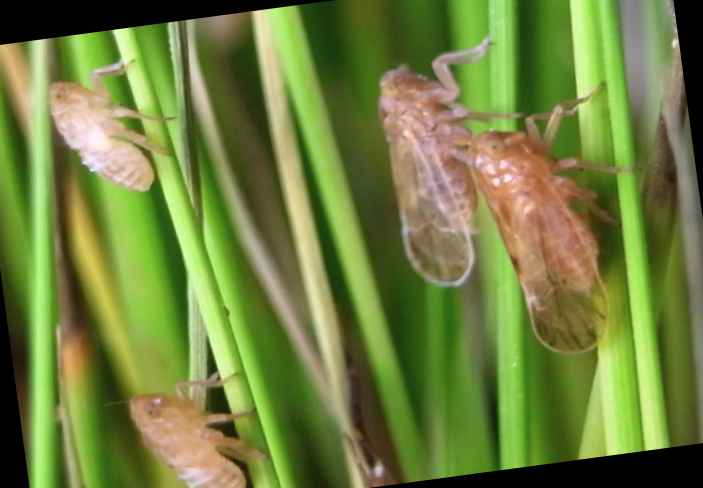Brown_hopper: (472, 98, 635, 356), (376, 44, 482, 286), (48, 64, 168, 192), (130, 378, 262, 488)
